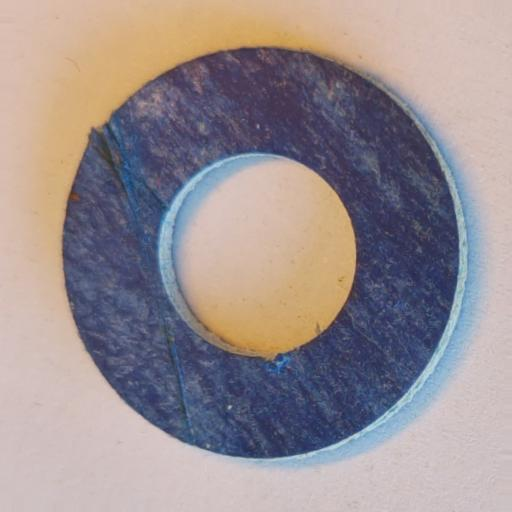defect: (86, 122, 201, 446)
